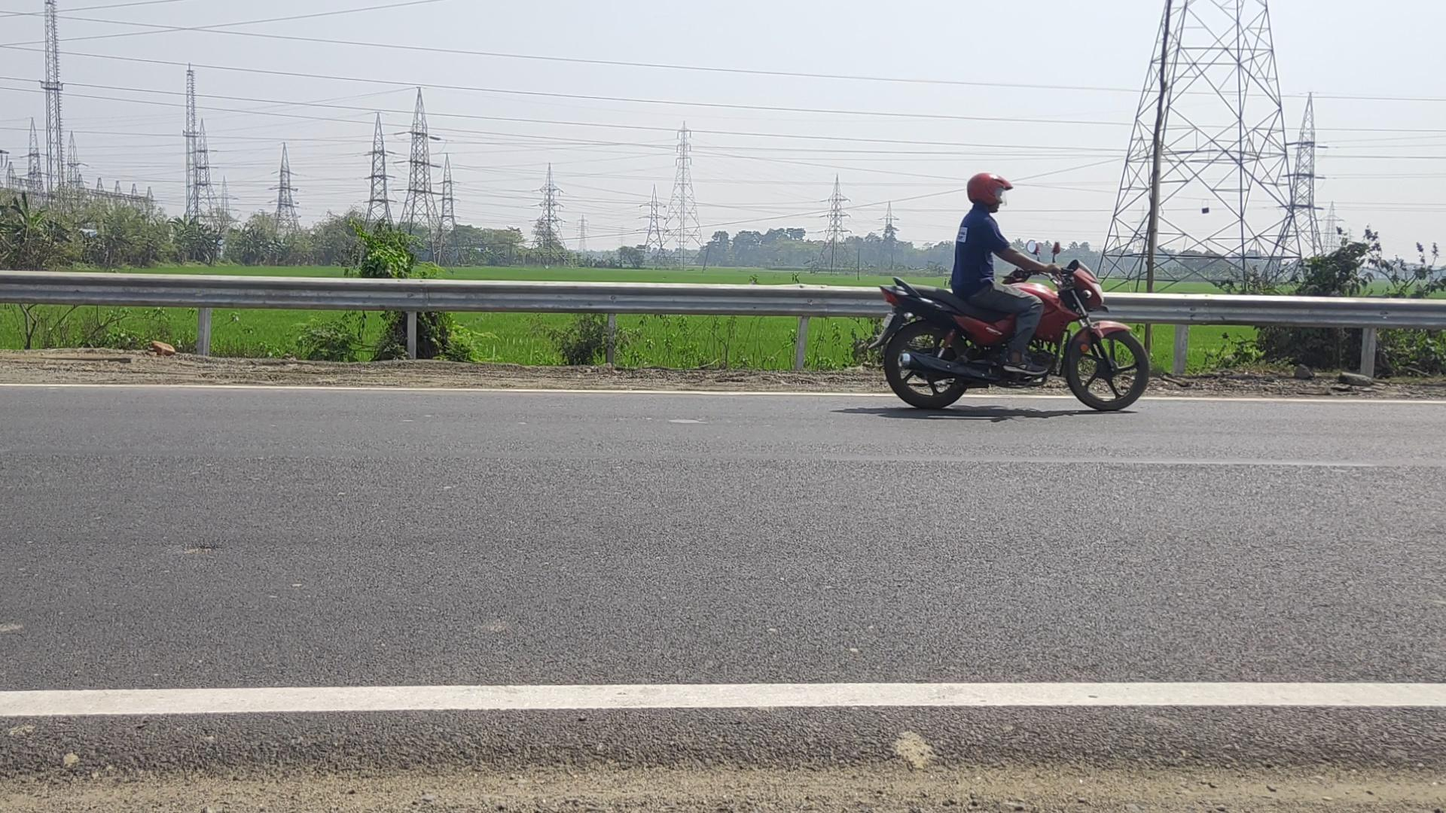bike: (868, 172, 1150, 412)
